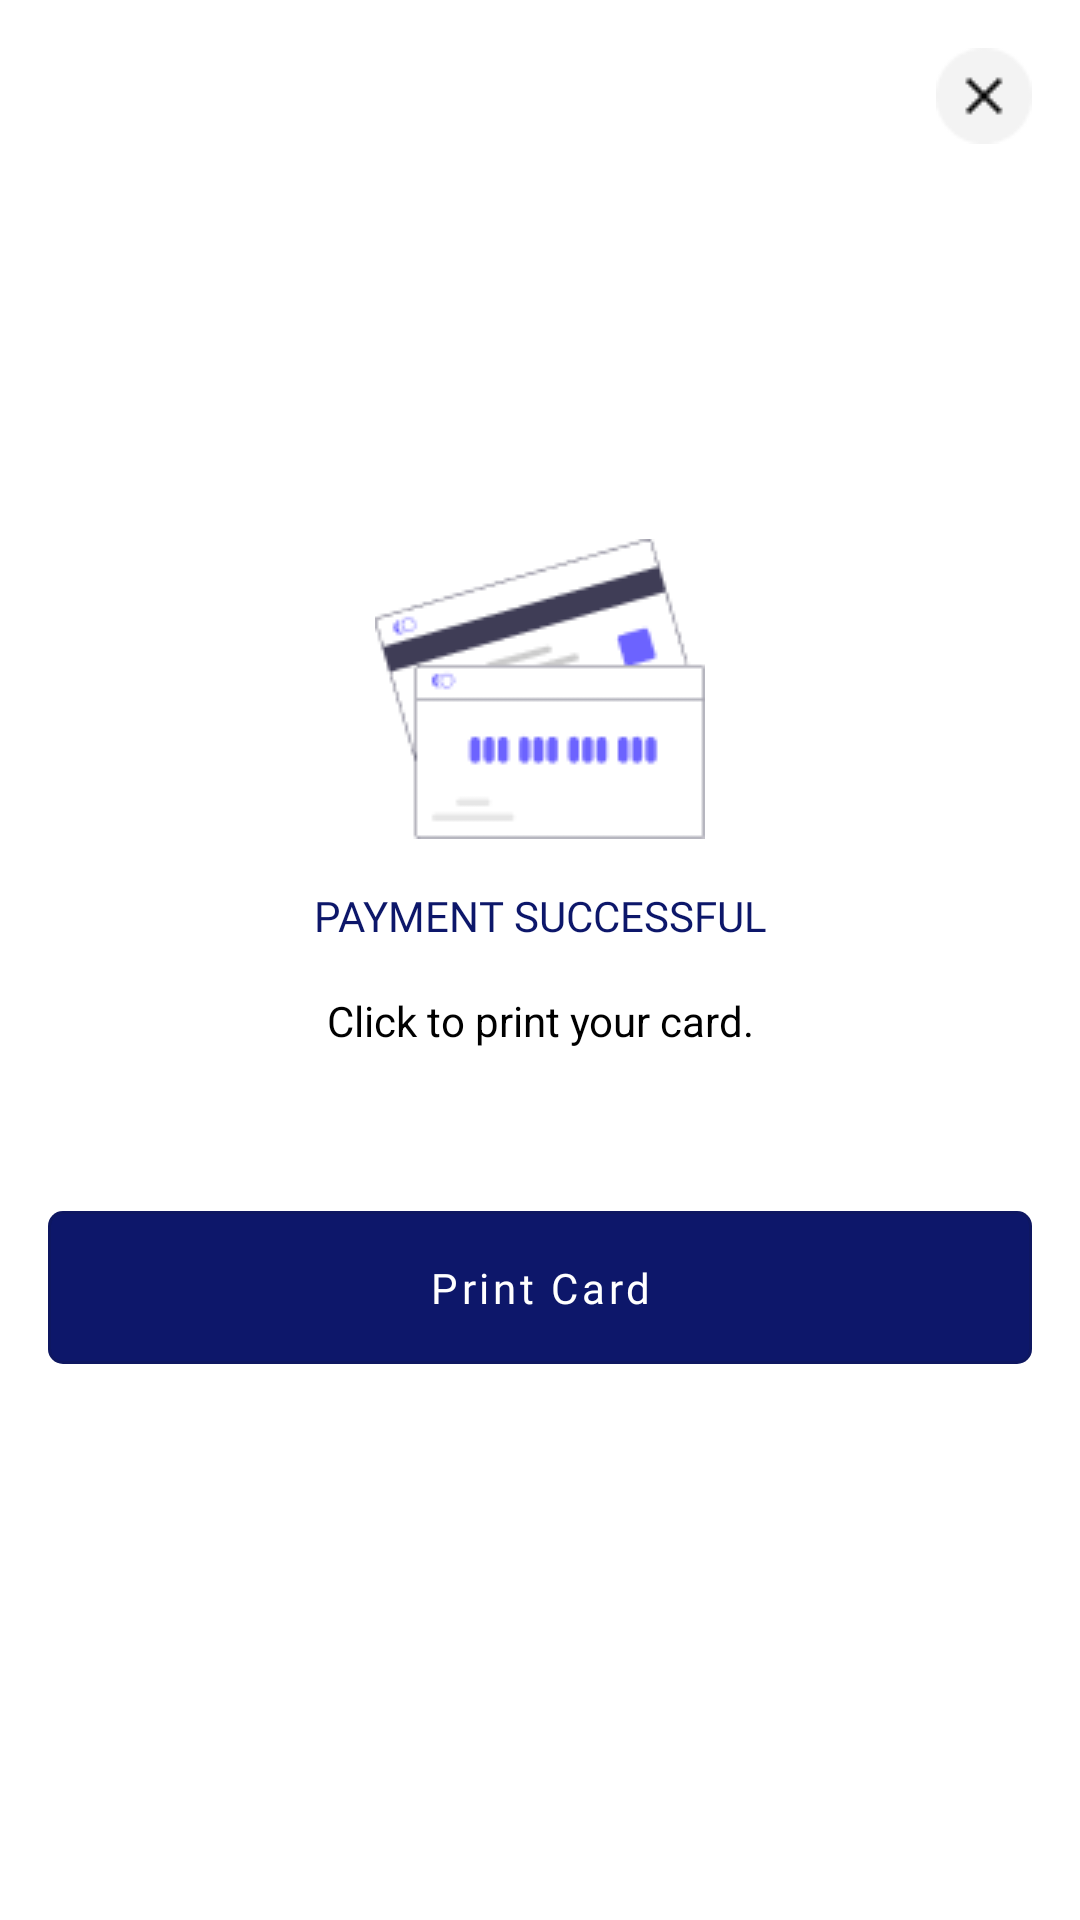

Screen size 1080×1920. Icon name, then its center in pixels as (x,y):
Close Page: (984,96)
